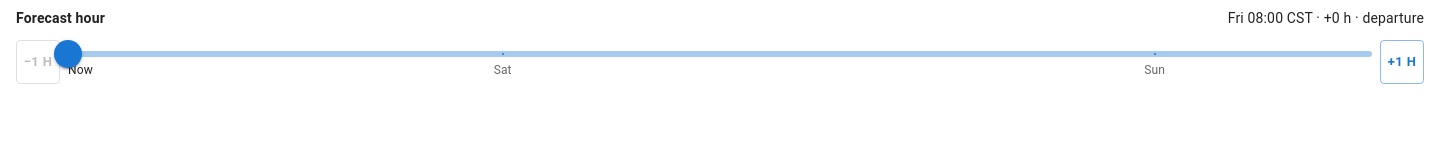
the one-hour buttons step the holder and stop at the ends
Check: the button "−1 h" is disabled, box [16,40,60,84]
Click the button "+1 h". click: (1402,62)
box: [1380,40,1424,84]
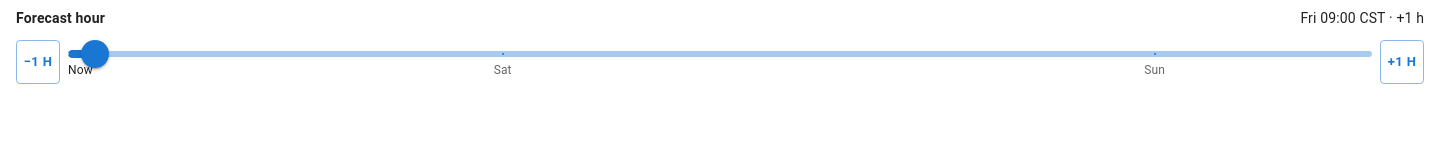
Click the button "+1 h". click: (1402,62)
box: [1380,40,1424,84]
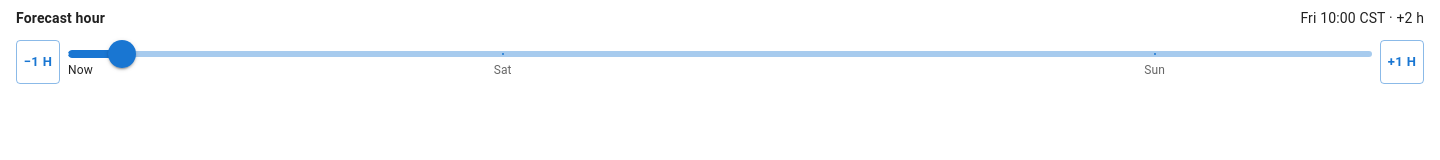
Click the button "−1 h". click: (38,62)
box: [16,40,60,84]
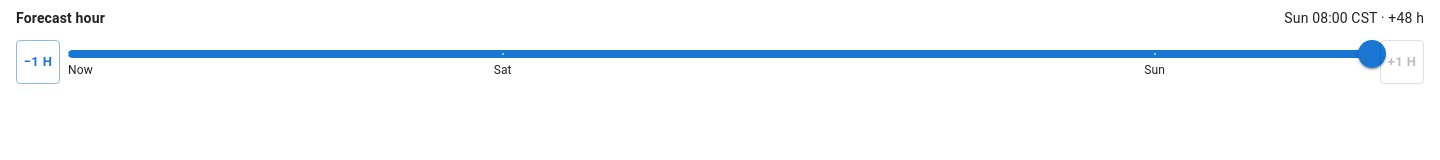
Check: the button "−1 h" is enabled, box [16,40,60,84]
Check: the button "+1 h" is disabled, box [1380,40,1424,84]
